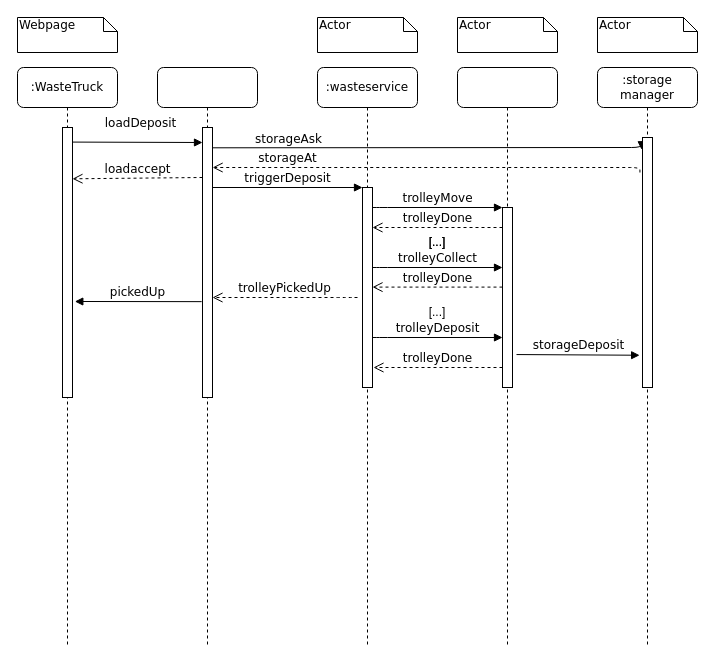
Some shapes in this 715 by 665 pixel diagram are drawn without their labels. The centre of each missing label's shape, as x and y in pixels:
:trolley: the point at 507,357
:TruckWeb SocketHandler: the point at 207,357
